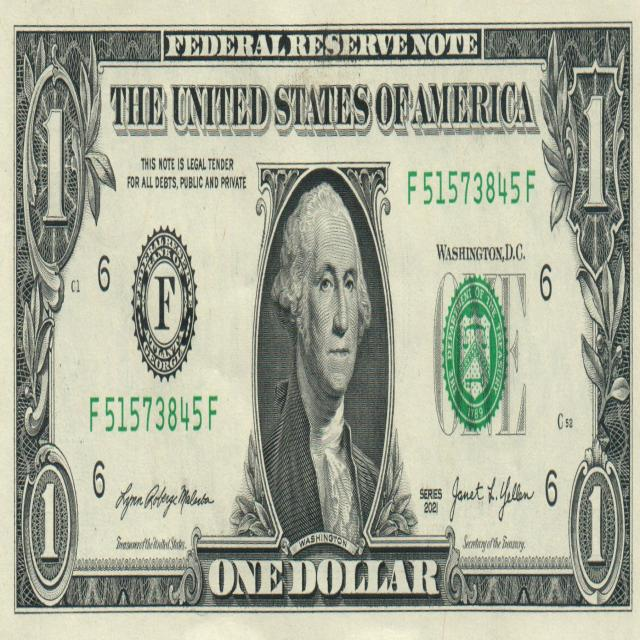SerialNumber: (90, 396, 217, 432), (408, 170, 535, 205)
